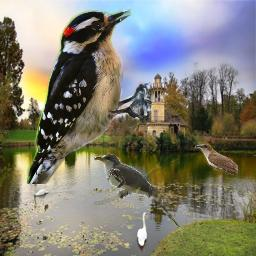Cuckoo: (94, 154, 180, 228), (194, 144, 238, 177)
Woodpecker: (27, 9, 152, 184)
